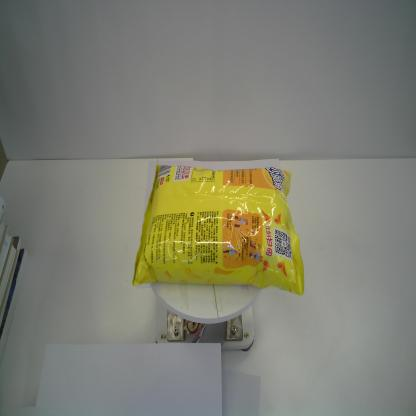Puffed Food: (131, 157, 306, 298)
